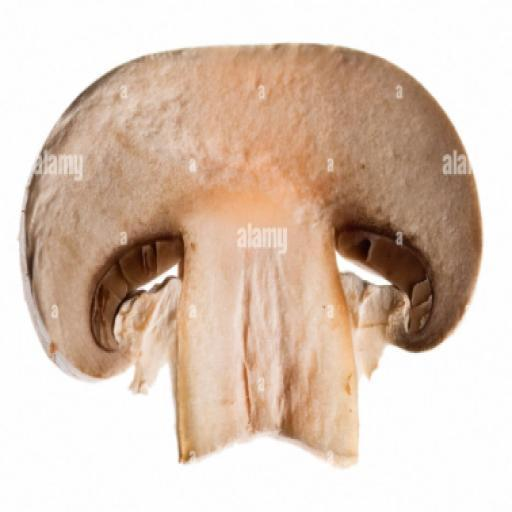mushroom: (20, 44, 486, 469)
